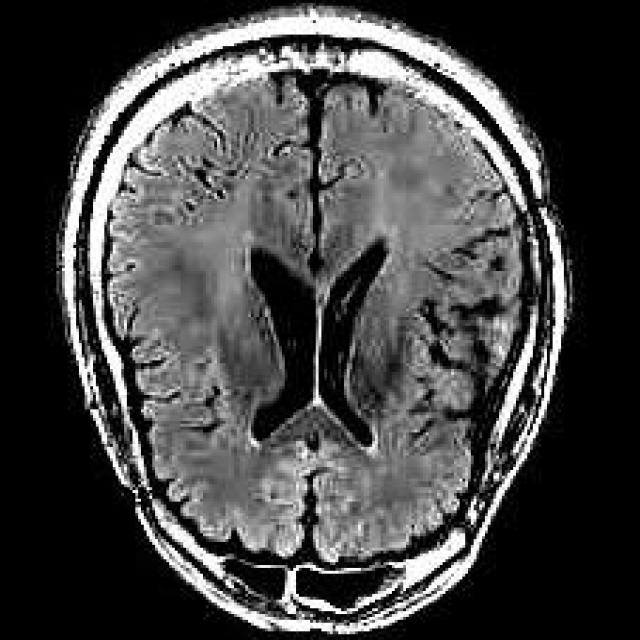no-tumor: (151, 147, 469, 508)
